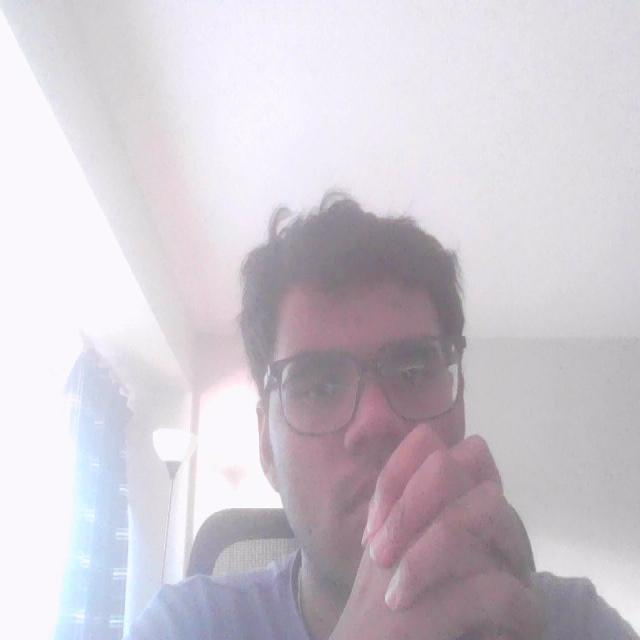Please: (335, 409, 563, 640)
